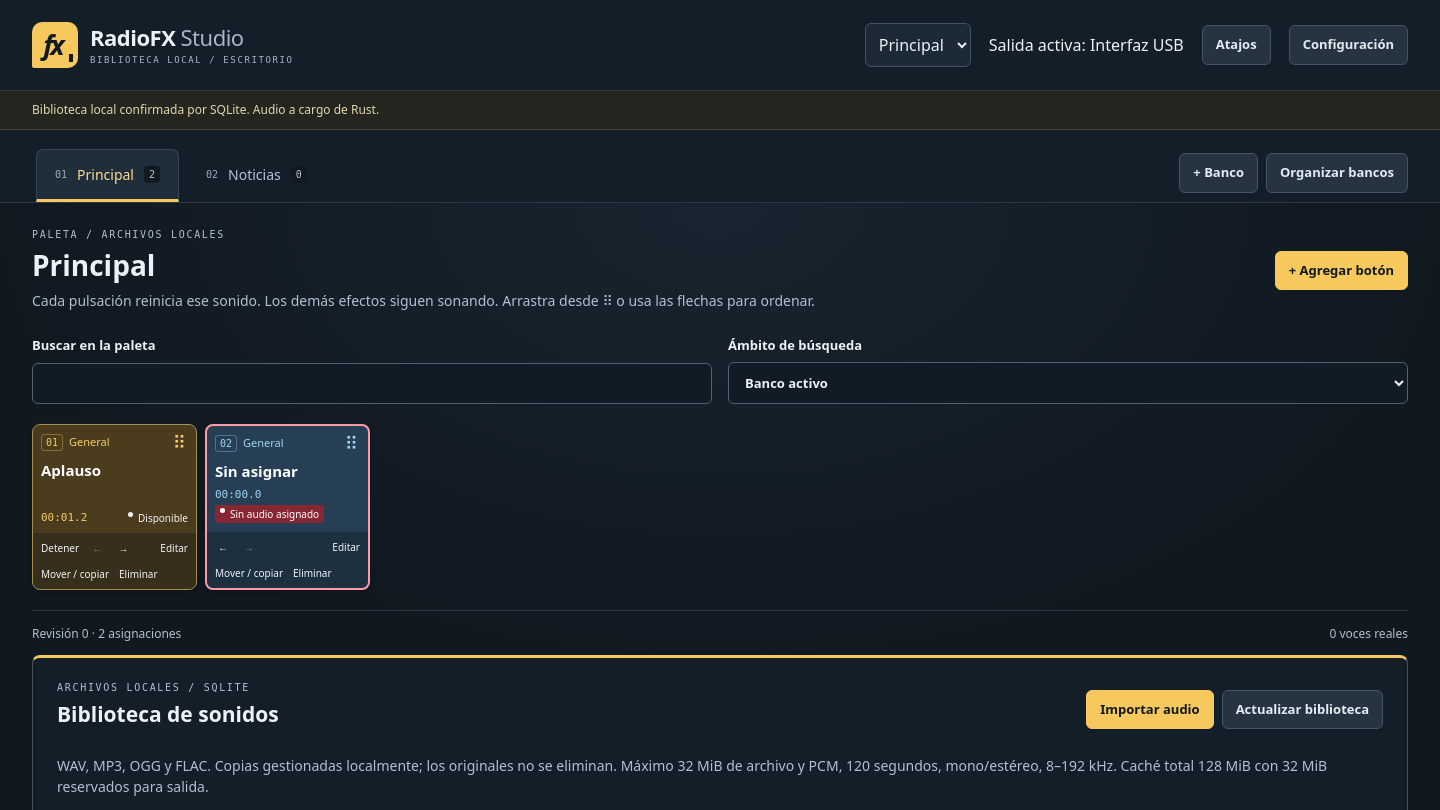
Scenario: professional persistent UI › confirms copy across banks with distinct identities and explicit shortcut policy
Expected: the button with aria-label "Disparar Aplauso" is enabled, [33, 453, 196, 532]
Click the button with aria-label "Mover o copiar Aplauso" at coordinates (75, 574), box [37, 562, 113, 586]
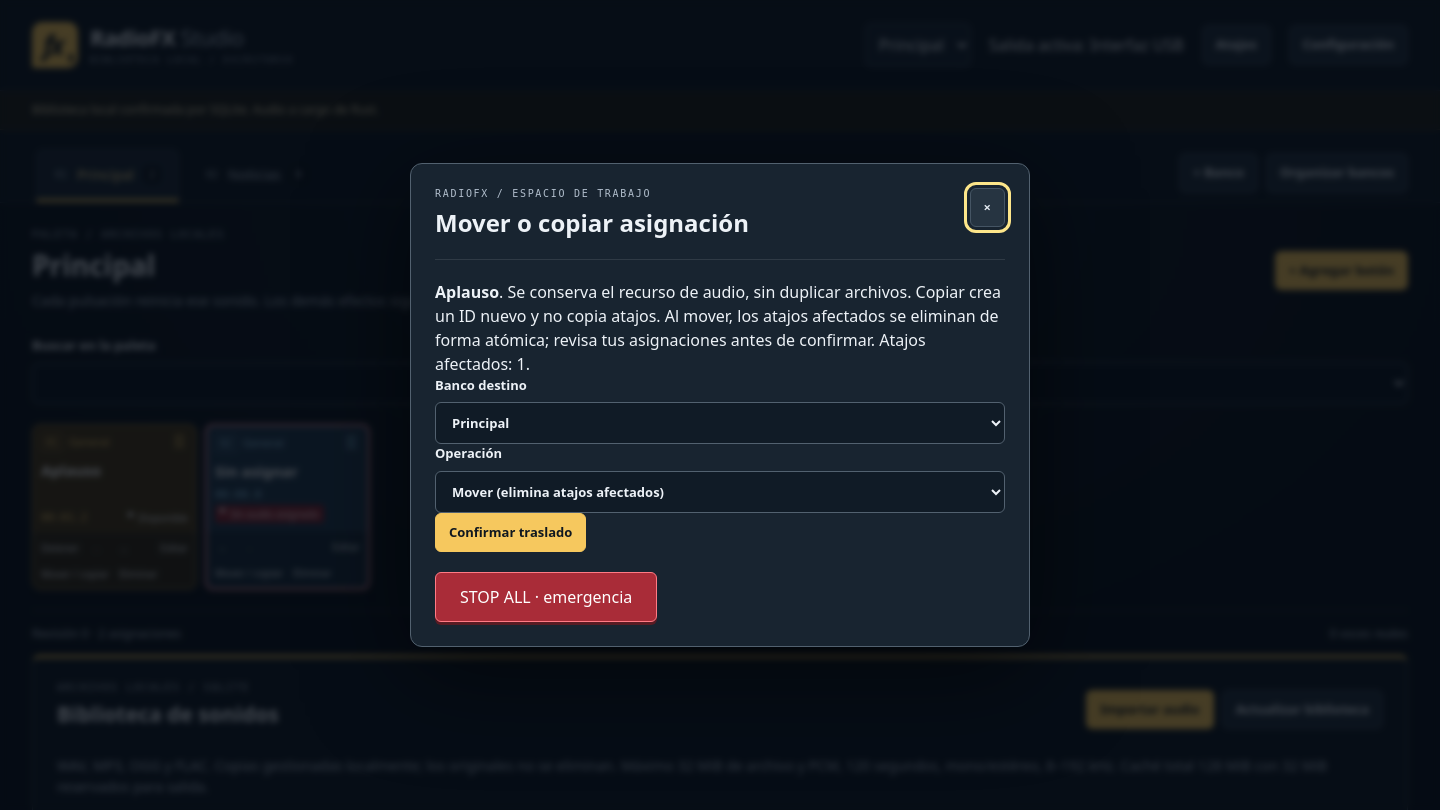
Result: the text "Atajos afectados: 1" is shown at [435, 280, 1005, 376]
Select "Noticias" in the dropdown labelled "Banco destino" at coordinates (720, 423), box [435, 402, 1005, 444]
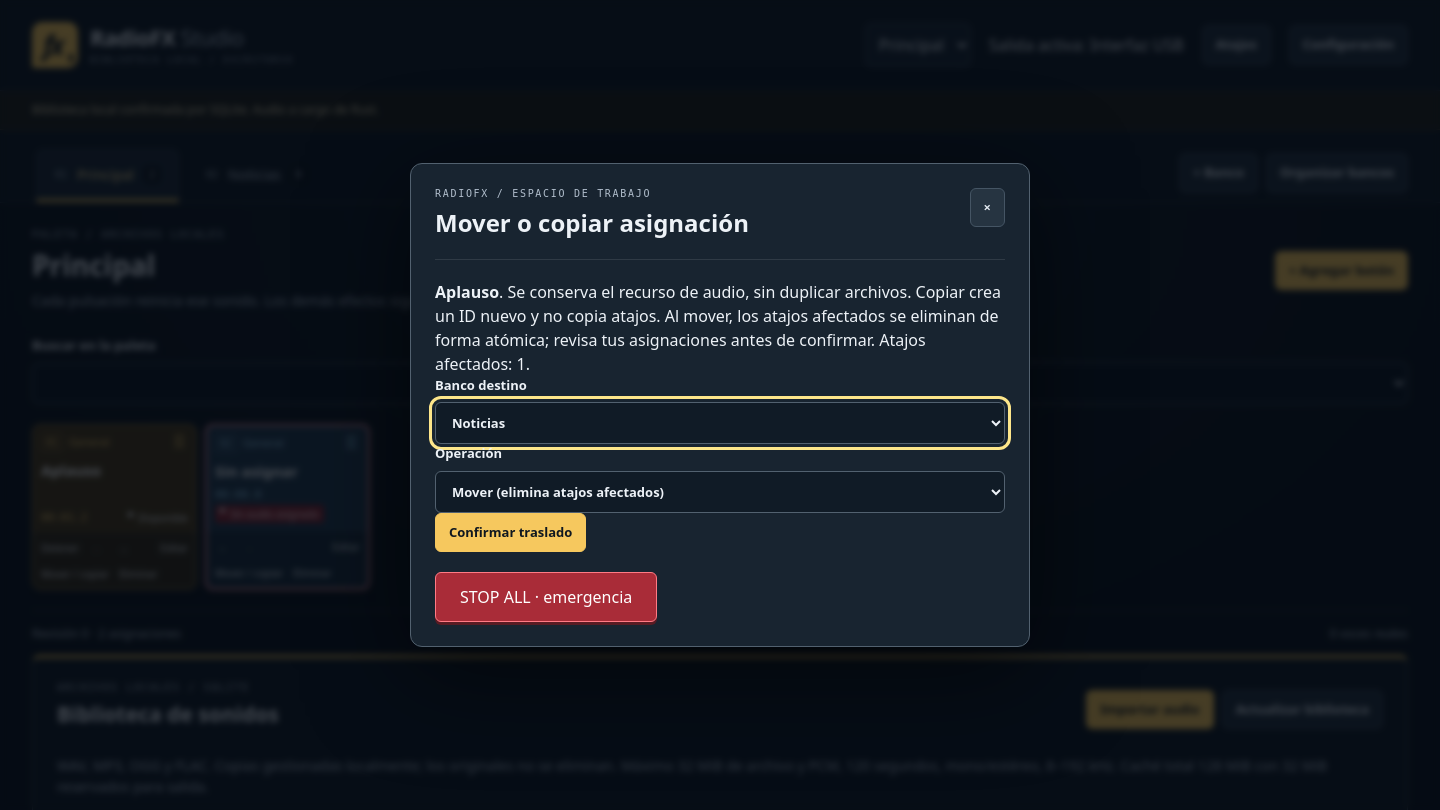
Select "Copiar (sin atajos)" in the dropdown labelled "Operación" at coordinates (720, 492), box [435, 471, 1005, 513]
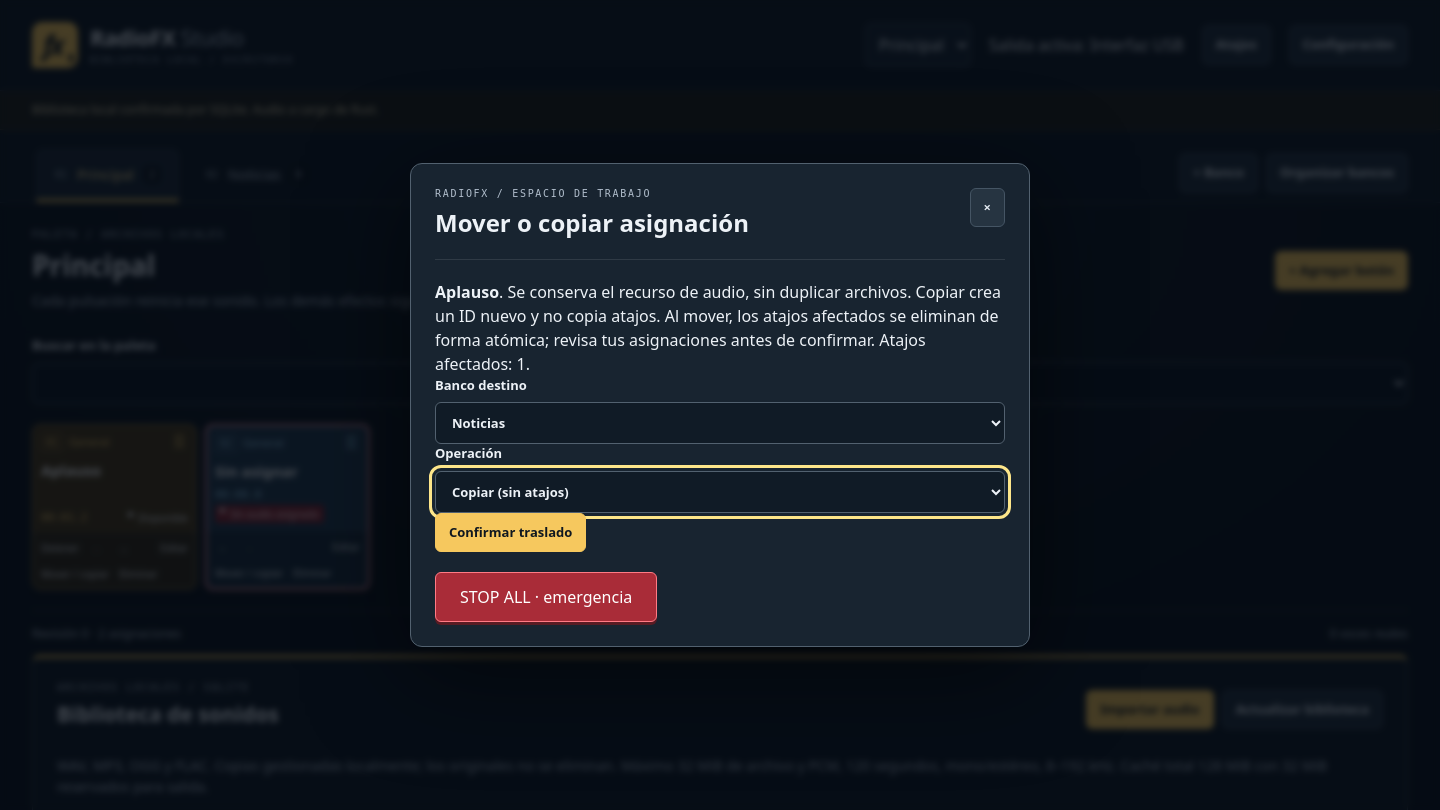
Click the button "Confirmar traslado" at coordinates (511, 533), box [435, 513, 586, 552]
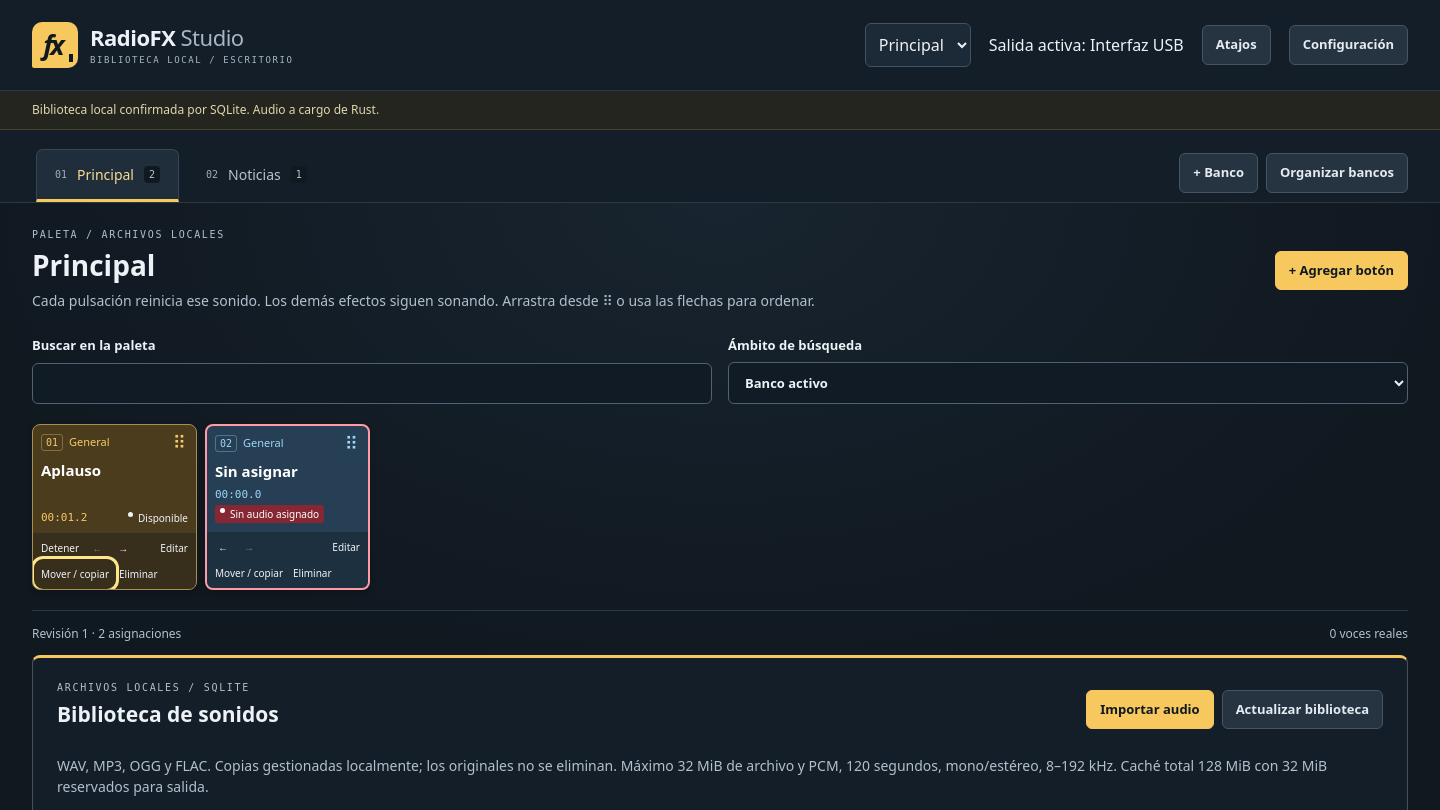
Result: the dialog is gone
